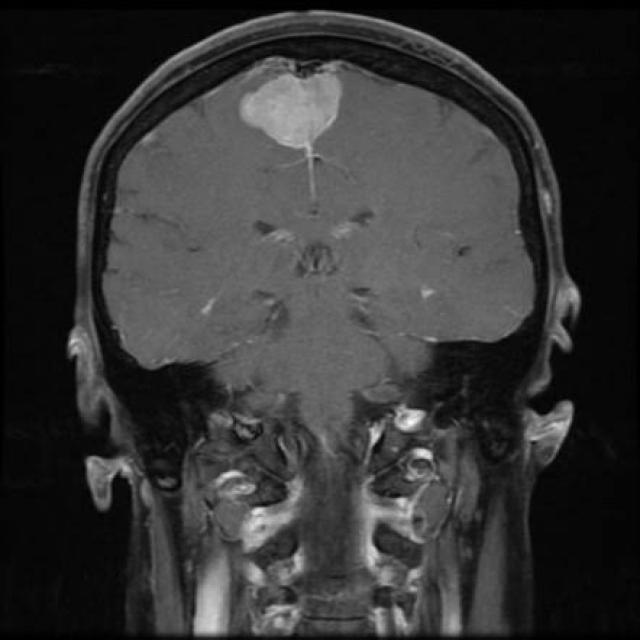brain_tumor: (239, 74, 342, 159)
